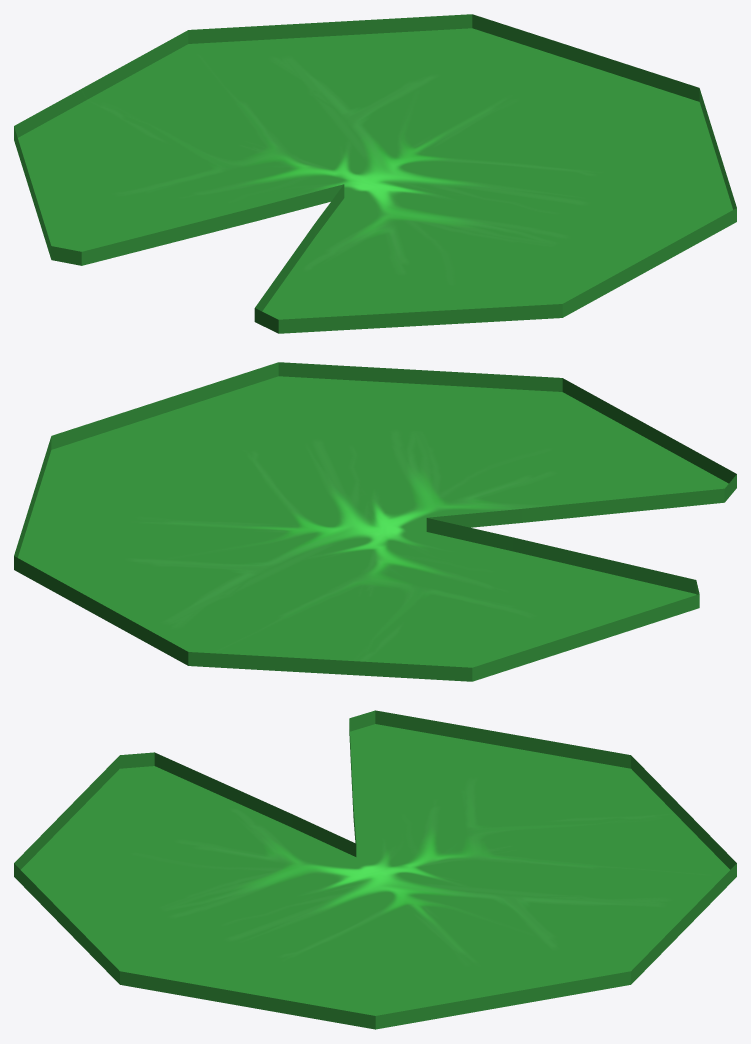
Rendered from LilyPad.glb.
3 renders of one model, top to bottom at view 1: azimuth 30°, elevation 25°; view 2: azimuth 150°, elevation 25°; view 3: azimuth 270°, elevation 25°, orthographic. The views are drawn at different scales.
Visible parts, largest first — view 1: Circle; view 2: Circle; view 3: Circle.
Part boxes in pixels (bbox=[...]): Circle: bbox=[14, 14, 736, 333]; Circle: bbox=[14, 362, 736, 681]; Circle: bbox=[14, 710, 736, 1029].
Size of the model in its own units: 2 by 0.0415 by 2.
1 material, 1 textured.
